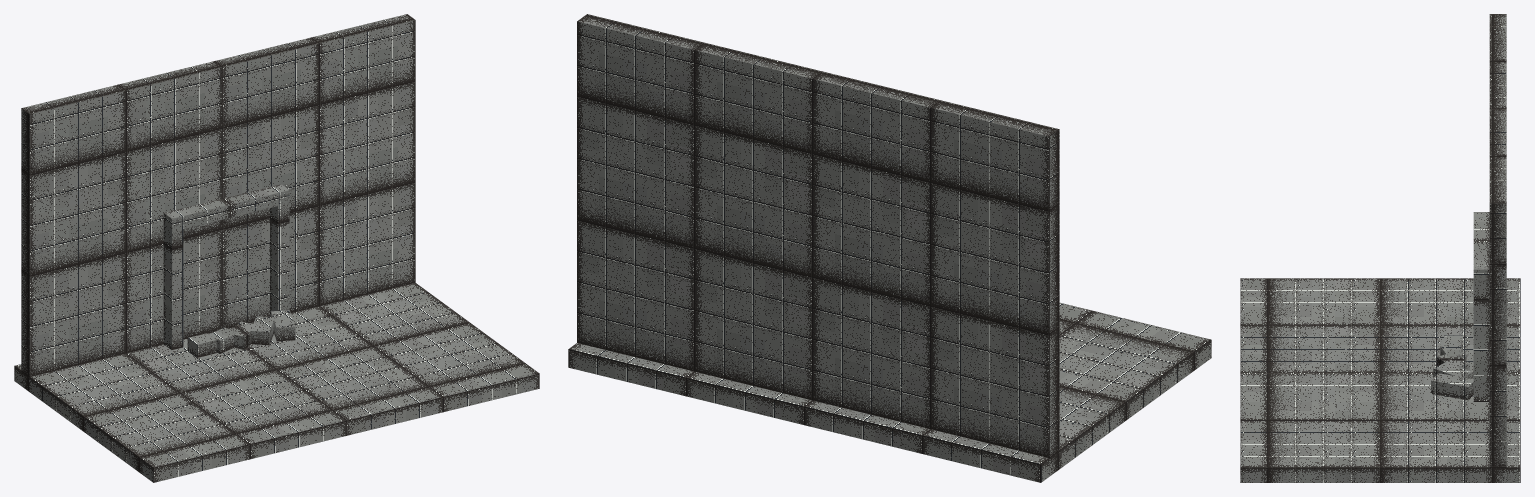
File: gate_break_ragged.glb
3 views of the same model, side by side, from view 1: azimuth 30°, elevation 25°; view 2: azimuth 150°, elevation 25°; view 3: azimuth 270°, elevation 25° (orthographic). The views are drawn at different scales.
Visible parts, largest first — view 1: gate_break_ragged; view 2: gate_break_ragged; view 3: gate_break_ragged.
Boxes of the visible parts, x1,y1,x2,y2 form: gate_break_ragged: [14, 14, 539, 482]; gate_break_ragged: [568, 14, 1211, 482]; gate_break_ragged: [1240, 14, 1520, 482].
Size of the model in its own units: 8 by 5.5 by 5.
Materials: 1 (1 with a texture image).
